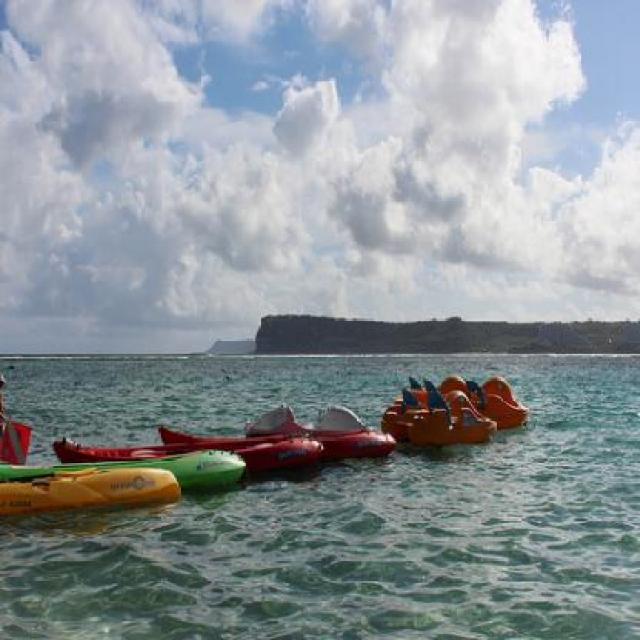ship: (52, 418, 326, 485), (156, 398, 404, 468), (4, 444, 258, 511)
